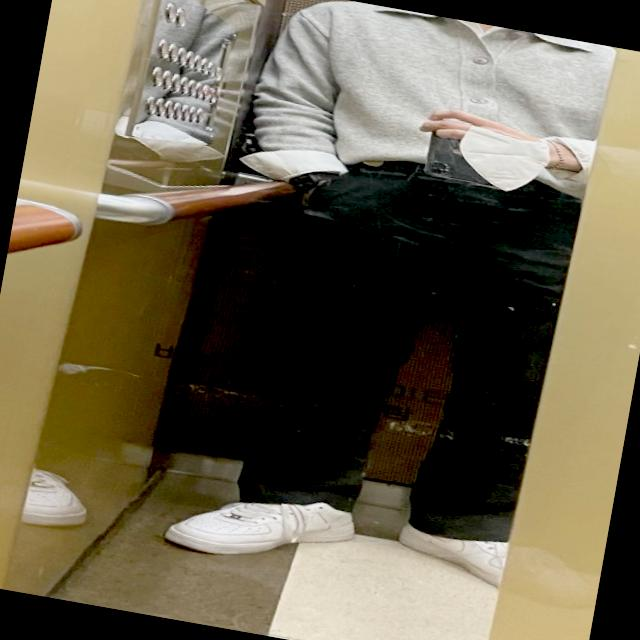cardigan: (252, 0, 623, 213)
denimpants: (232, 140, 582, 560)
